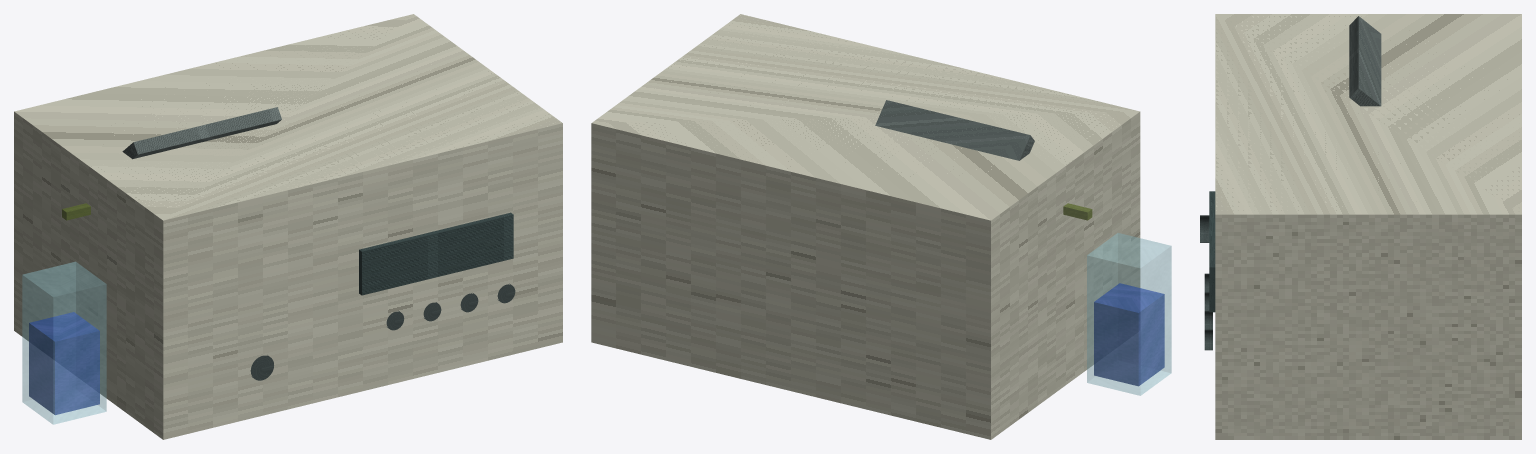
File: alat-15.glb
3 views of the same model, side by side, from view 1: azimuth 30°, elevation 25°; view 2: azimuth 150°, elevation 25°; view 3: azimuth 270°, elevation 25° (orthographic). The views are drawn at different scales.
Parts seen in each view (by area): view 1: box-0, cuvette-6, display-1, cuvetteLiquid-7, spectroLid-5; view 2: box-0, cuvette-6, cuvetteLiquid-7, spectroLid-5; view 3: box-0, spectroLid-5, display-1.
Part boxes in pixels (x1,y1,x2,y2): box-0: (14, 14, 562, 439); cuvette-6: (22, 261, 106, 424); display-1: (359, 212, 513, 295); cuvetteLiquid-7: (29, 312, 99, 414); spectroLid-5: (122, 107, 281, 159); box-0: (591, 14, 1140, 439); cuvette-6: (1087, 233, 1171, 395); cuvetteLiquid-7: (1094, 283, 1164, 386); spectroLid-5: (875, 100, 1034, 160); box-0: (1215, 14, 1521, 439); spectroLid-5: (1349, 16, 1381, 106); display-1: (1209, 191, 1215, 312).
Size of the model in its own units: 4.82 by 2.32 by 2.78.
Materials: 13 (13 with a texture image).
